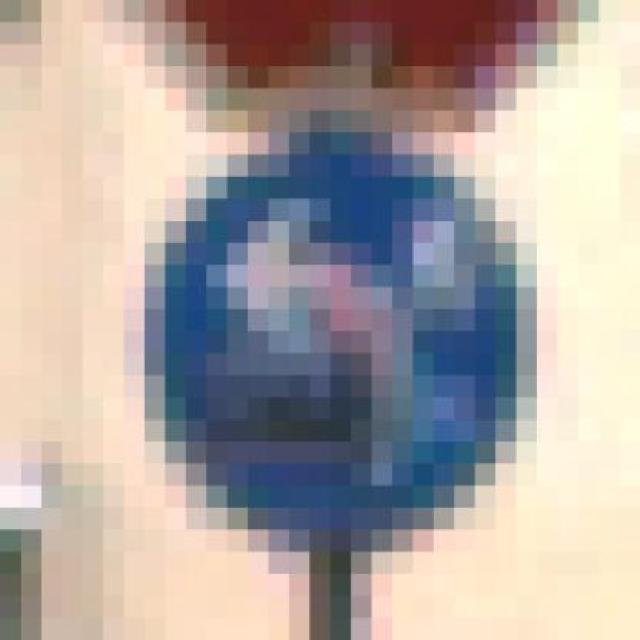Turn left ahead: (124, 132, 558, 574)
